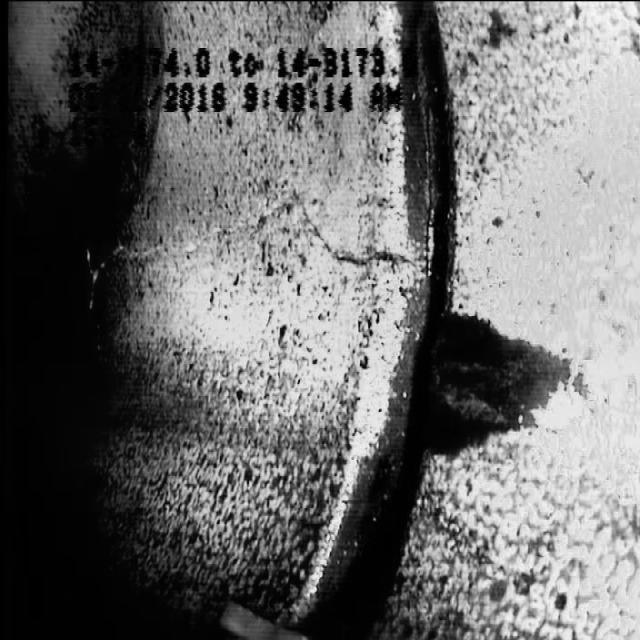Crack: (156, 174, 412, 338)
